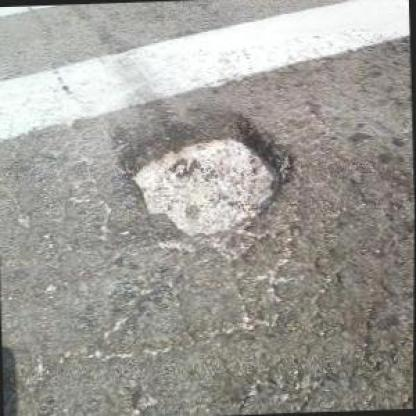pothole: (117, 107, 298, 248)
